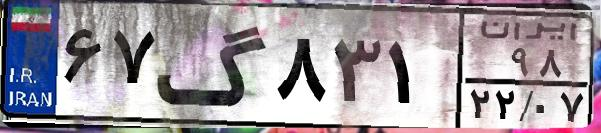0: (535, 70, 560, 125)
1: (385, 28, 445, 110)
2: (470, 70, 495, 125), (495, 70, 520, 125)
3: (330, 28, 385, 110)
6: (57, 26, 110, 100)
7: (110, 28, 156, 98), (560, 70, 590, 125)
8: (270, 28, 330, 110), (537, 27, 568, 80)
9: (508, 27, 537, 80)
گ: (156, 12, 270, 120)
